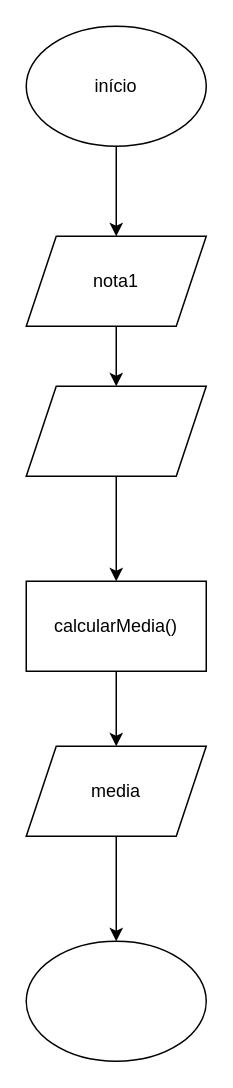
Image size: 233x1088. Some labels were removed from this diagram. The centre of each missing label's shape, as x and y in pixels:
fim: (x=115, y=1000)
nota2: (x=115, y=430)
